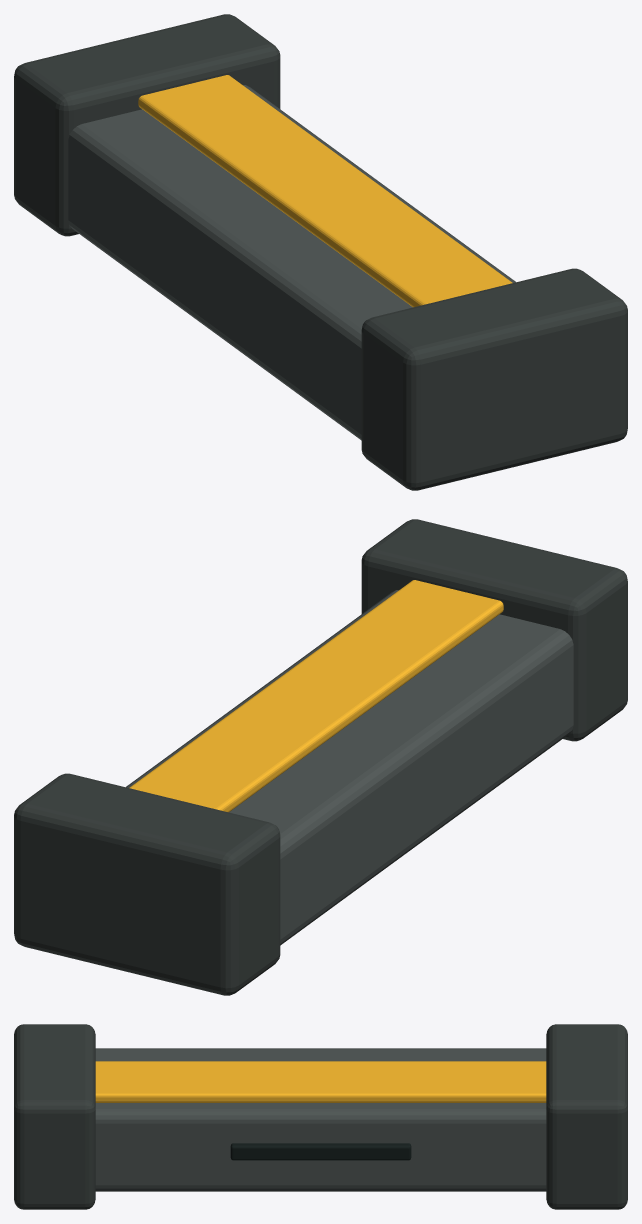
File: SM_Charger_DockBumper.fbx
3 renders of one model, top to bottom at view 1: azimuth 30°, elevation 25°; view 2: azimuth 150°, elevation 25°; view 3: azimuth 270°, elevation 25°, orthographic. The views are drawn at different scales.
Parts seen in each view (by area): view 1: SM_Charger_DockBumper.001; view 2: SM_Charger_DockBumper.001; view 3: SM_Charger_DockBumper.001.
Part boxes in pixels (box(x1,y1,x2,y2)): SM_Charger_DockBumper.001: box(14, 14, 627, 490); SM_Charger_DockBumper.001: box(14, 519, 627, 995); SM_Charger_DockBumper.001: box(14, 1024, 627, 1209).
Size of the model in its own units: 0.23 by 0.715 by 0.14.
